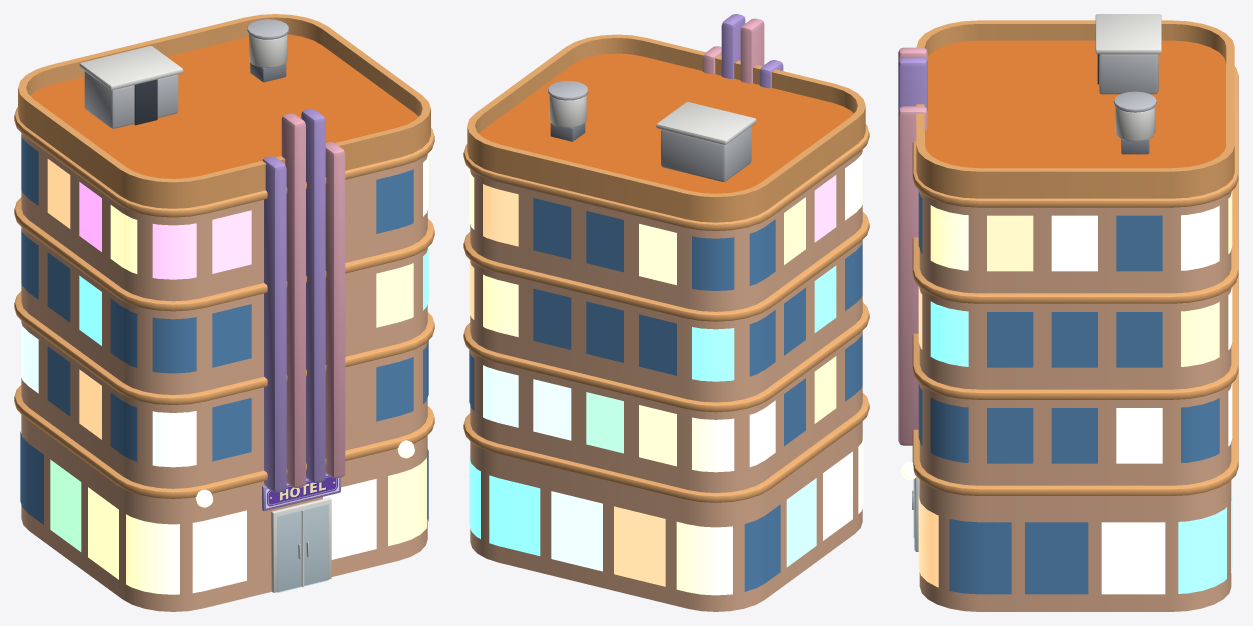
File: deco_frisos_pessego.glb
The picture shows the model from 3 angles, left to right: view 1: azimuth 30°, elevation 25°; view 2: azimuth 150°, elevation 25°; view 3: azimuth 270°, elevation 25°; orthographic projection. The views are drawn at different scales.
Parts seen in each view (by area): view 1: deco_frisos_pessego; view 2: deco_frisos_pessego; view 3: deco_frisos_pessego.
Part boxes in pixels (x1,y1,x2,y2): deco_frisos_pessego: (14,14,434,611); deco_frisos_pessego: (463,14,869,611); deco_frisos_pessego: (898,14,1238,611).
Bounding box in the file's own units: 11.04 × 16.1 × 10.27.
11 materials, 2 textured.
